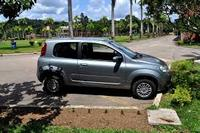car: (37, 37, 171, 97)
